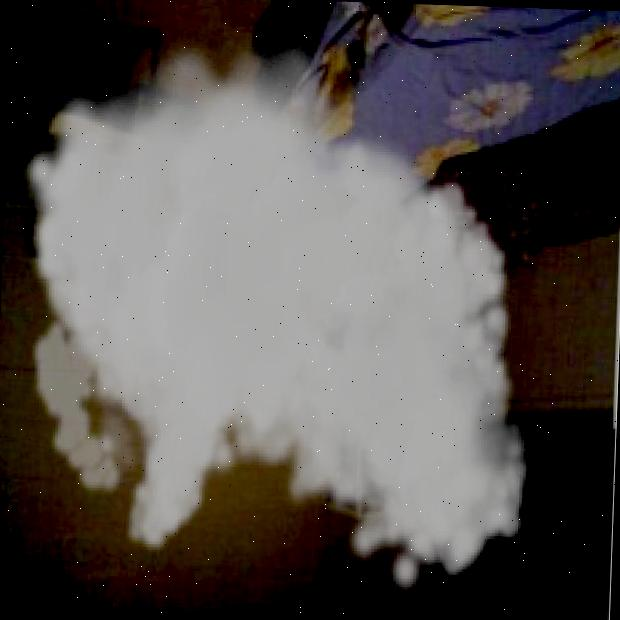smoke: (6, 19, 546, 600)
